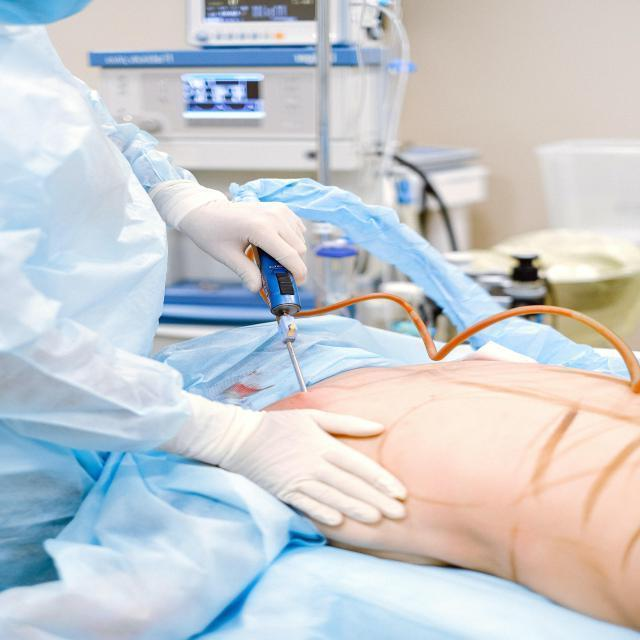gloves: (206, 408, 409, 523), (172, 198, 312, 290)
